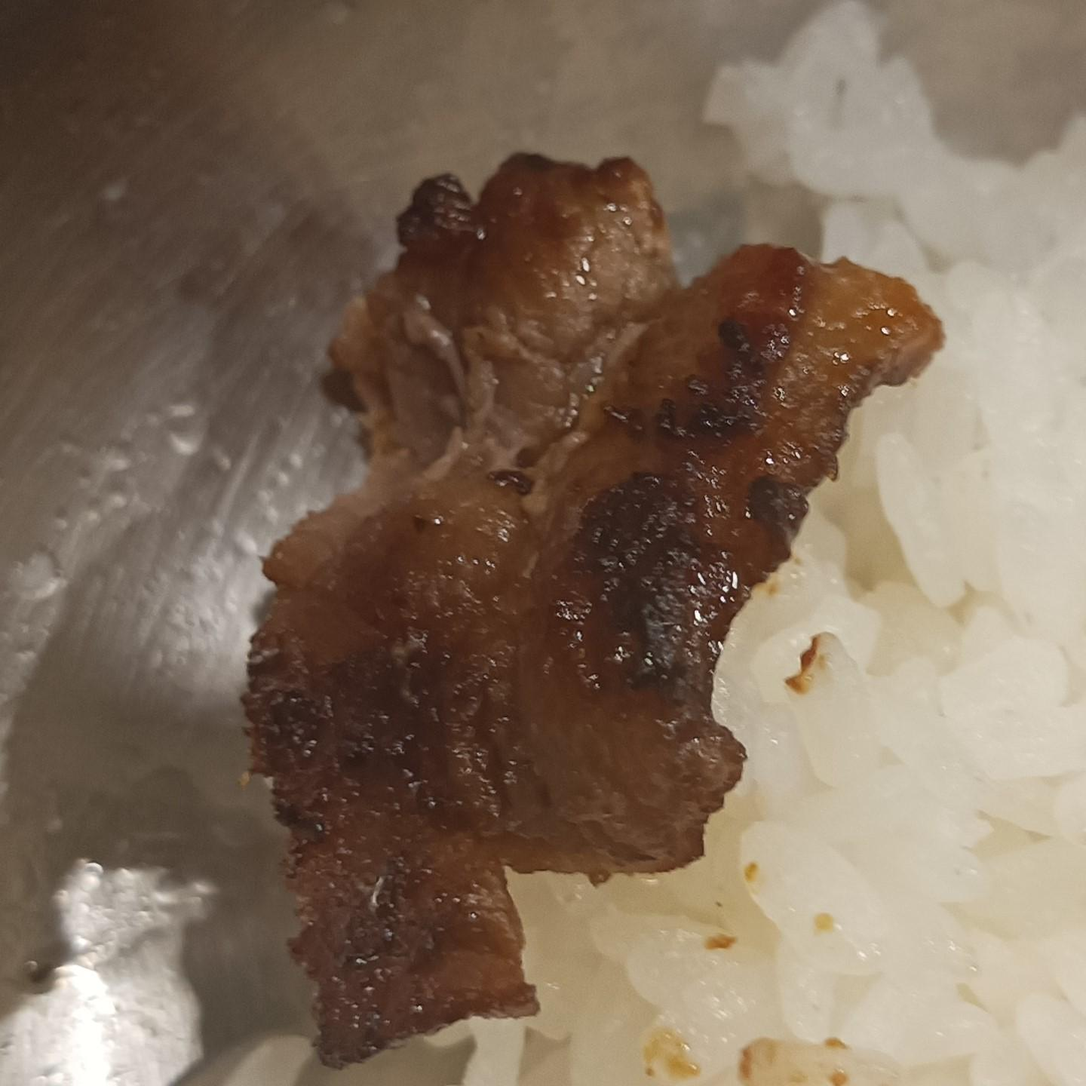Overcooked: (241, 153, 947, 1070)
